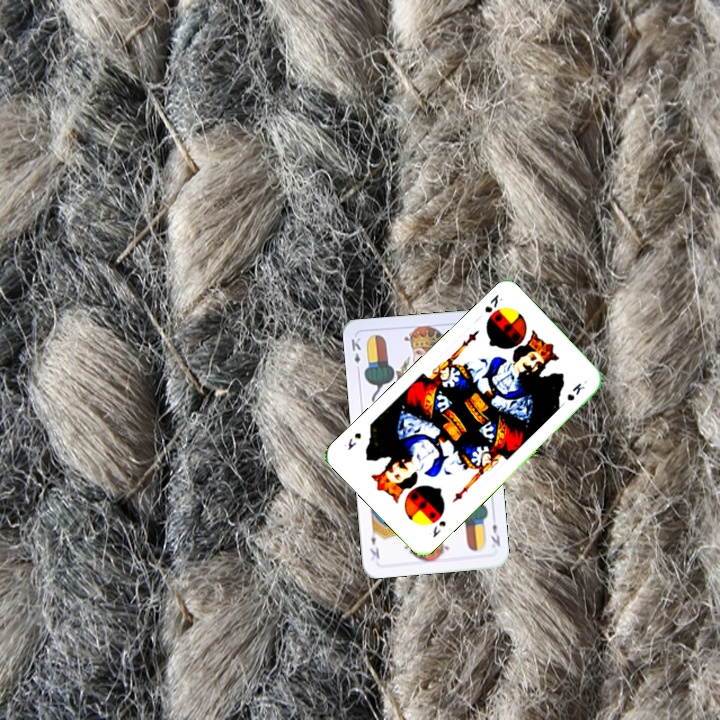EK: (347, 334, 363, 374), (487, 520, 503, 549)
SK: (480, 290, 505, 315), (428, 517, 448, 540)
